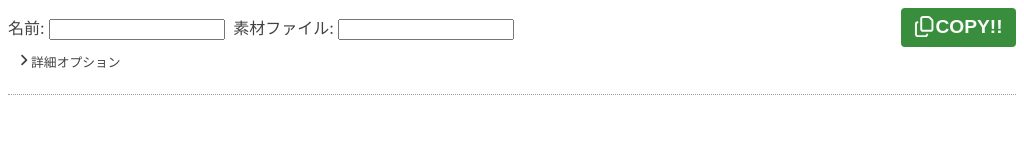
Scenario: Options › clear rawEffect
Click the button with test id "export-options-button". click: [69, 63]
box: [8,47,130,78]
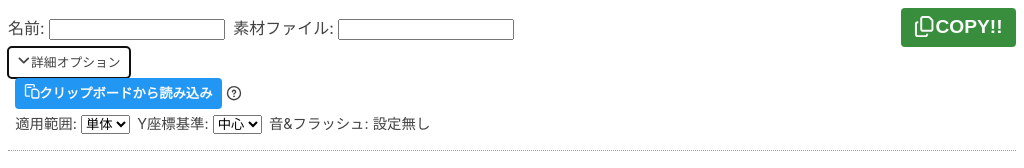
Click the button "クリップボードから読み込み". click: [119, 93]
box: [15,78,222,109]
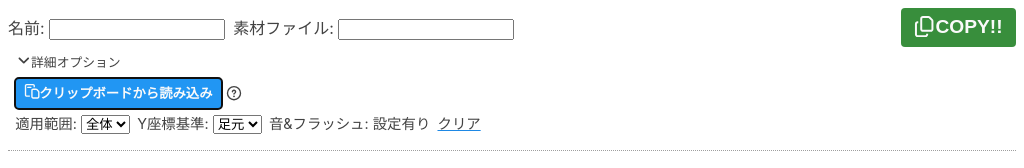
Expected: the button "クリップボードから読み込み" is shown, [15,78,222,109]
Click the text "クリア". click: [459, 123]
box: [438,115,481,132]
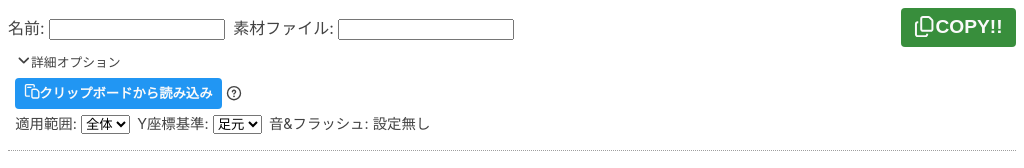
Expected: the text "音&フラッシュ: 設定無し" is shown, [269,115,430,132]
